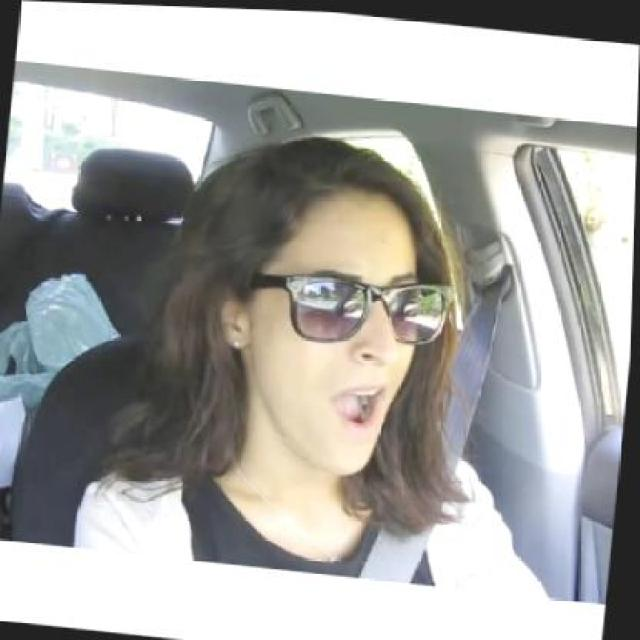inattentif: (202, 123, 438, 479)
